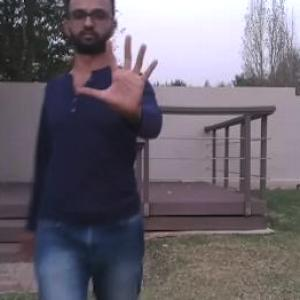follow_hand: (73, 29, 164, 121)
